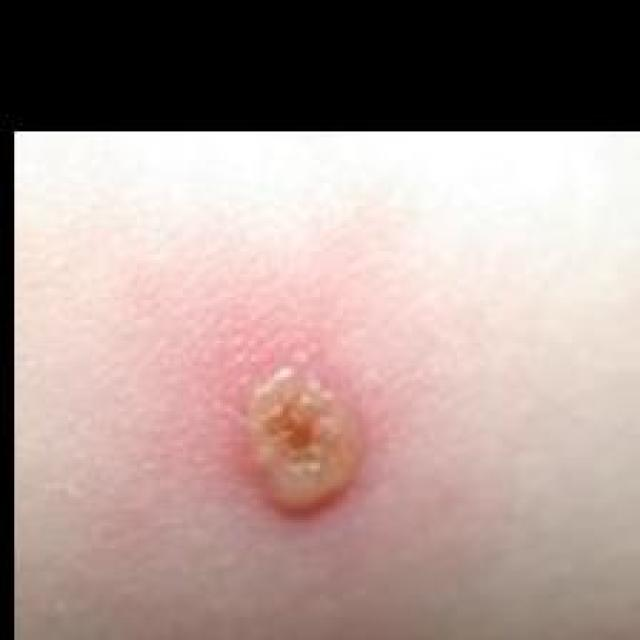others: (125, 200, 499, 582)
